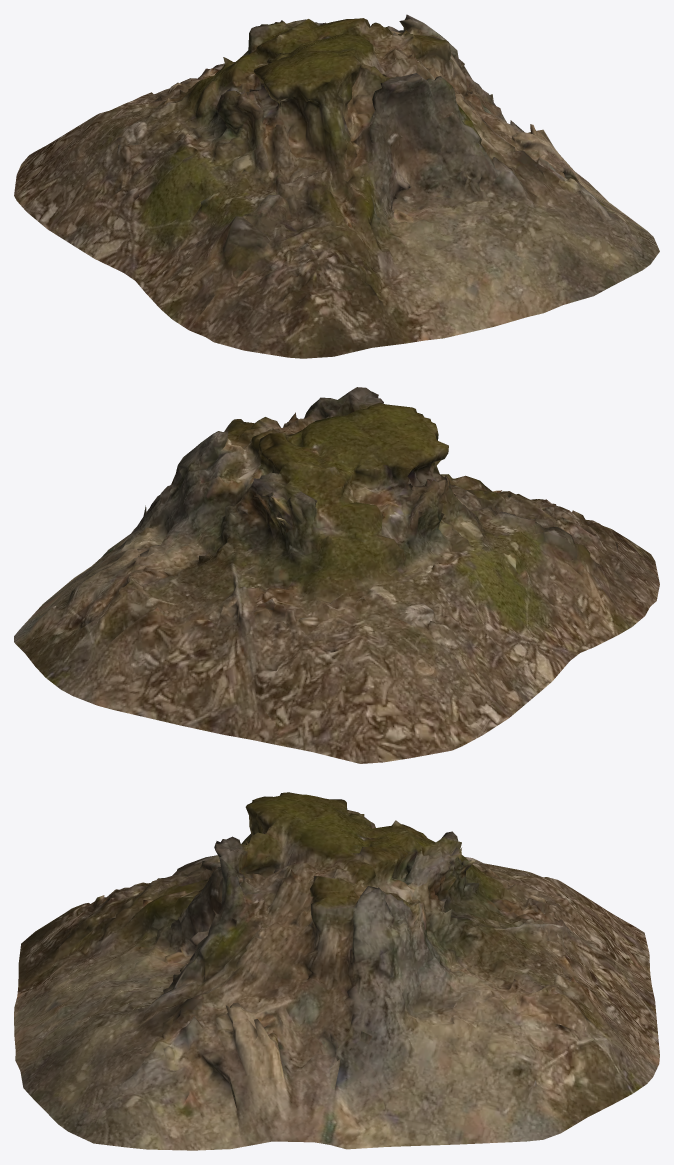
Rendered from toco_arvore.glb.
3 renders of one model, top to bottom at view 1: azimuth 30°, elevation 25°; view 2: azimuth 150°, elevation 25°; view 3: azimuth 270°, elevation 25°, orthographic. The views are drawn at different scales.
Visible parts, largest first — view 1: tree_stump_01; view 2: tree_stump_01; view 3: tree_stump_01.
Part boxes in pixels (x1,y1,x2,y2): tree_stump_01: [14, 14, 659, 358]; tree_stump_01: [14, 387, 659, 763]; tree_stump_01: [14, 792, 659, 1150].
Size of the model in its own units: 1.43 by 0.5699 by 1.59.
1 material, 1 textured.
